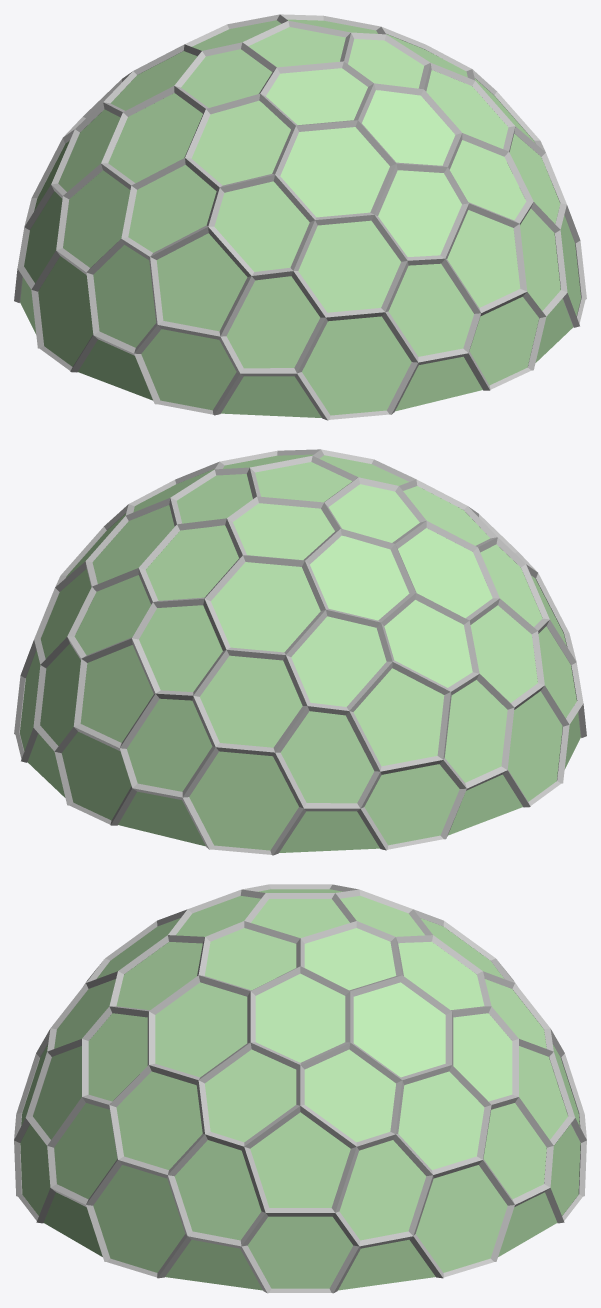
Rendered from Cristapanal.fbx.
3 renders of one model, top to bottom at view 1: azimuth 30°, elevation 25°; view 2: azimuth 150°, elevation 25°; view 3: azimuth 270°, elevation 25°, orthographic.
Visible parts, largest first — view 1: Cristapanal; view 2: Cristapanal; view 3: Cristapanal.
Part boxes in pixels (bbox=[...]): Cristapanal: bbox=[14, 14, 586, 420]; Cristapanal: bbox=[14, 449, 586, 855]; Cristapanal: bbox=[14, 884, 586, 1293].
Bounding box in the file's own units: 4239 × 2097 × 4213.
